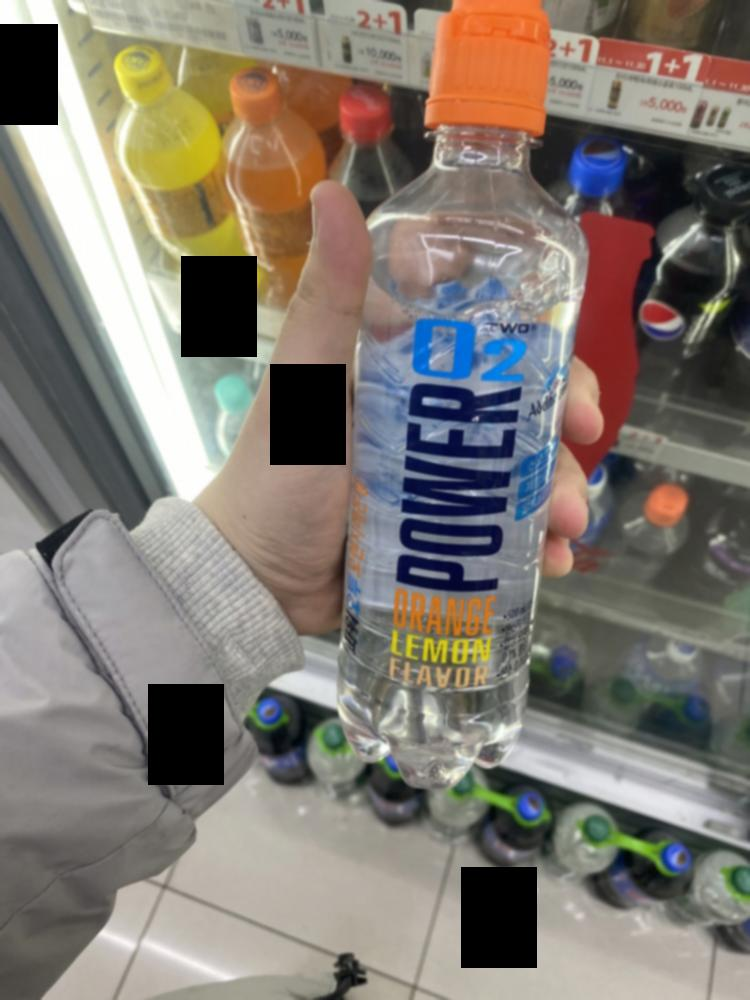powerO2_orange: (344, 0, 553, 803)
